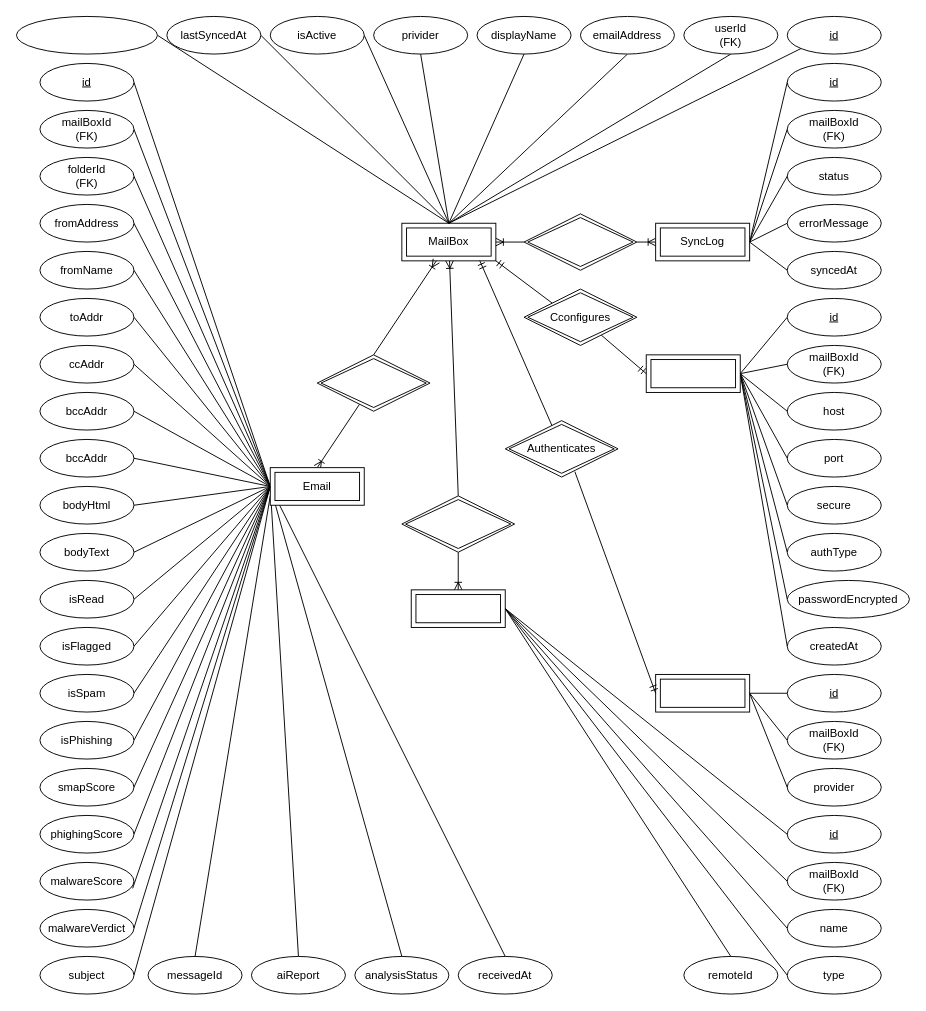
Some shapes in this 926 by 1011 pixel diagram are drawn without their labels. The shapes that lost their labels are listed below. From the top down, each one's centre as x and y in pixels, then its label:
[86,35]: pushNotificationsEnabled
[580,241]: Rrecord
[373,382]: Stores
[692,373]: Imap/Smtp Config
[458,523]: Contains
[457,608]: Folder
[702,693]: OauthToken
